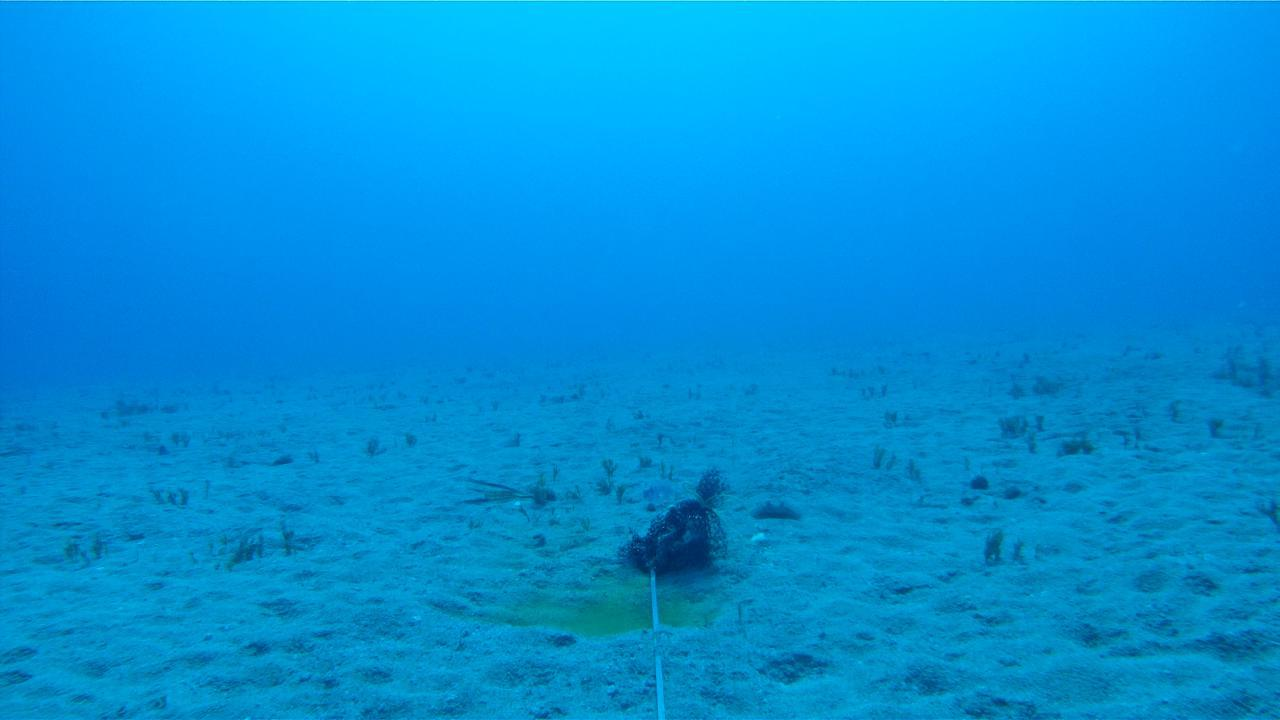bothus: (748, 495, 804, 517)
